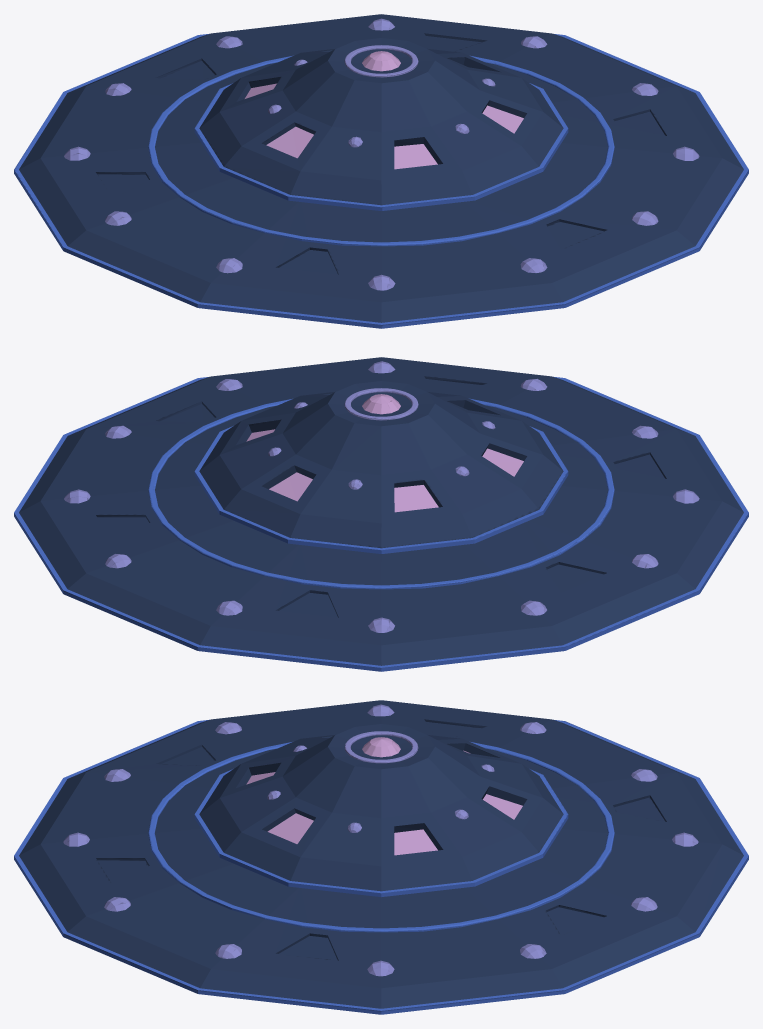
The model's file is Flying saucer.compressed.glb.
3 renders of one model, top to bottom at view 1: azimuth 30°, elevation 25°; view 2: azimuth 150°, elevation 25°; view 3: azimuth 270°, elevation 25°, orthographic.
Parts seen in each view (by area): view 1: Node; view 2: Node; view 3: Node.
Part boxes in pixels (x1,y1,x2,y2): Node: [14, 14, 748, 328]; Node: [14, 357, 748, 671]; Node: [14, 700, 748, 1014].
Size of the model in its own units: 424 by 108 by 424.
1 material, 1 textured.
